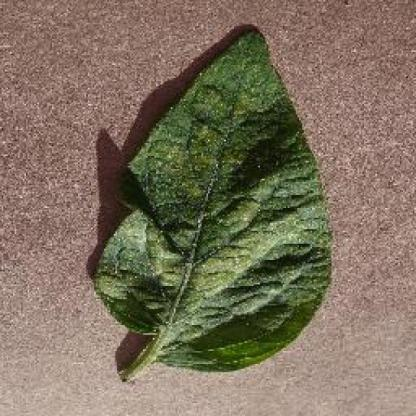Tomato_Spider_Mites: (92, 32, 332, 369)
